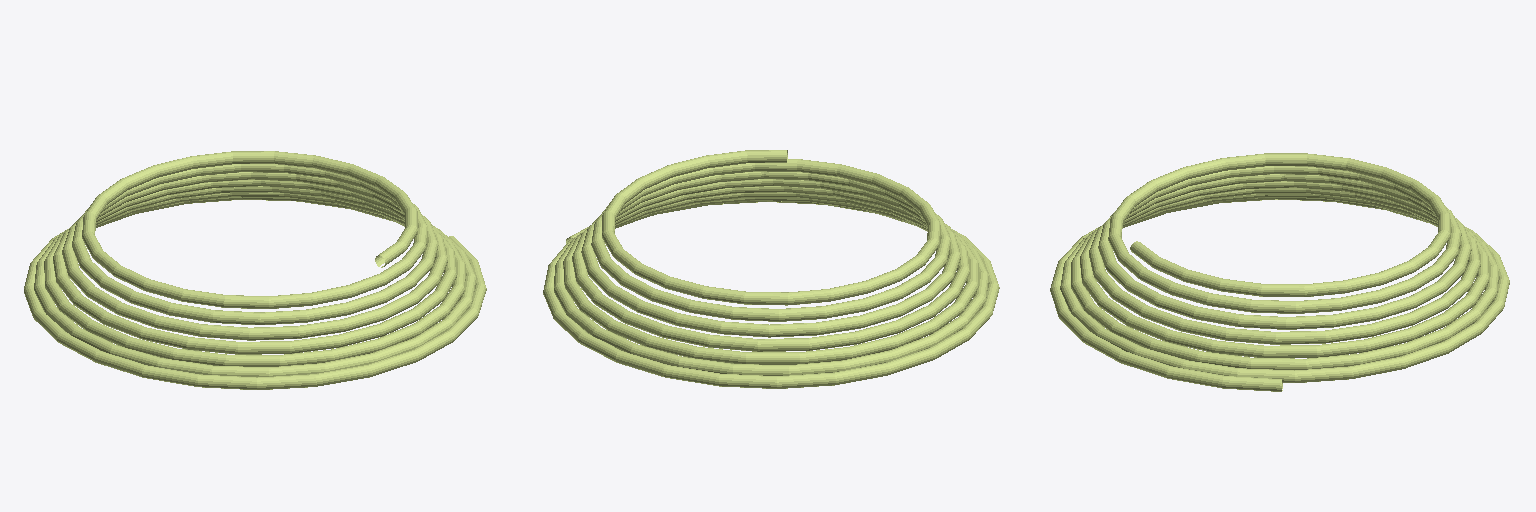
File: tent_rope.obj
3 renders of one model, left to right at view 1: azimuth 30°, elevation 25°; view 2: azimuth 150°, elevation 25°; view 3: azimuth 270°, elevation 25°, orthographic.
Visible parts, largest first — view 1: rope_b01; view 2: rope_b01; view 3: rope_b01.
Part boxes in pixels (x1,y1,x2,y2): rope_b01: (24, 151, 486, 389); rope_b01: (543, 150, 999, 388); rope_b01: (1050, 153, 1509, 391).
Size of the model in its own units: 8.52 by 1.62 by 8.43.